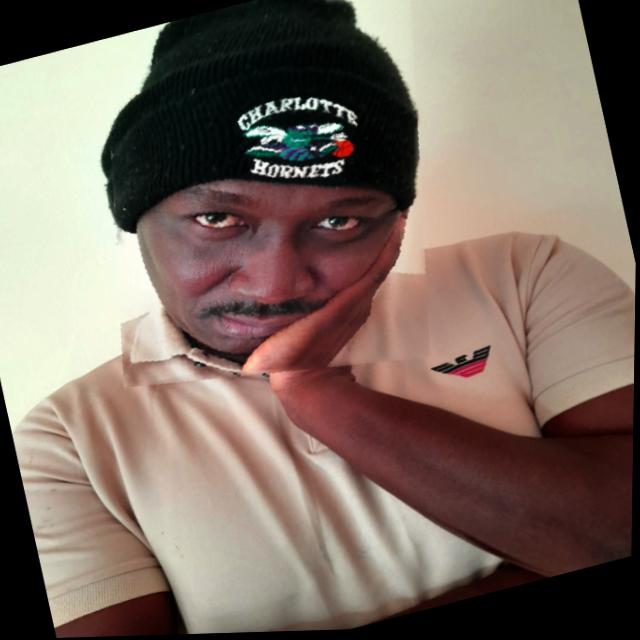happy: (59, 0, 475, 422)
